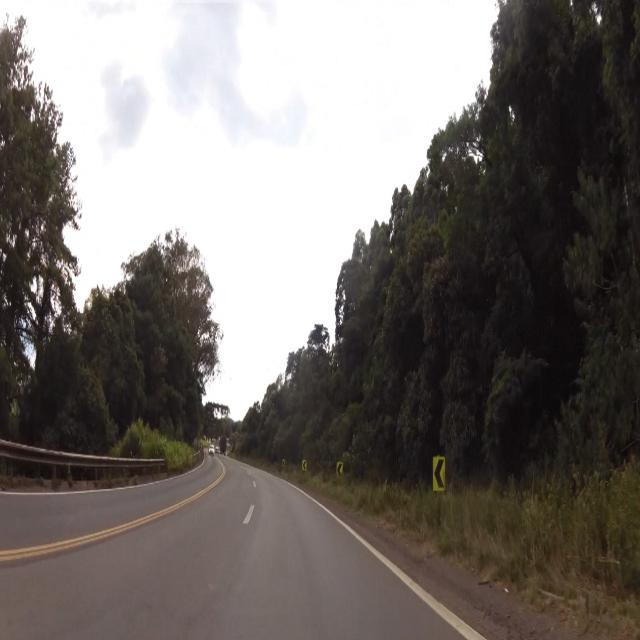Del: (431, 451, 446, 498)
